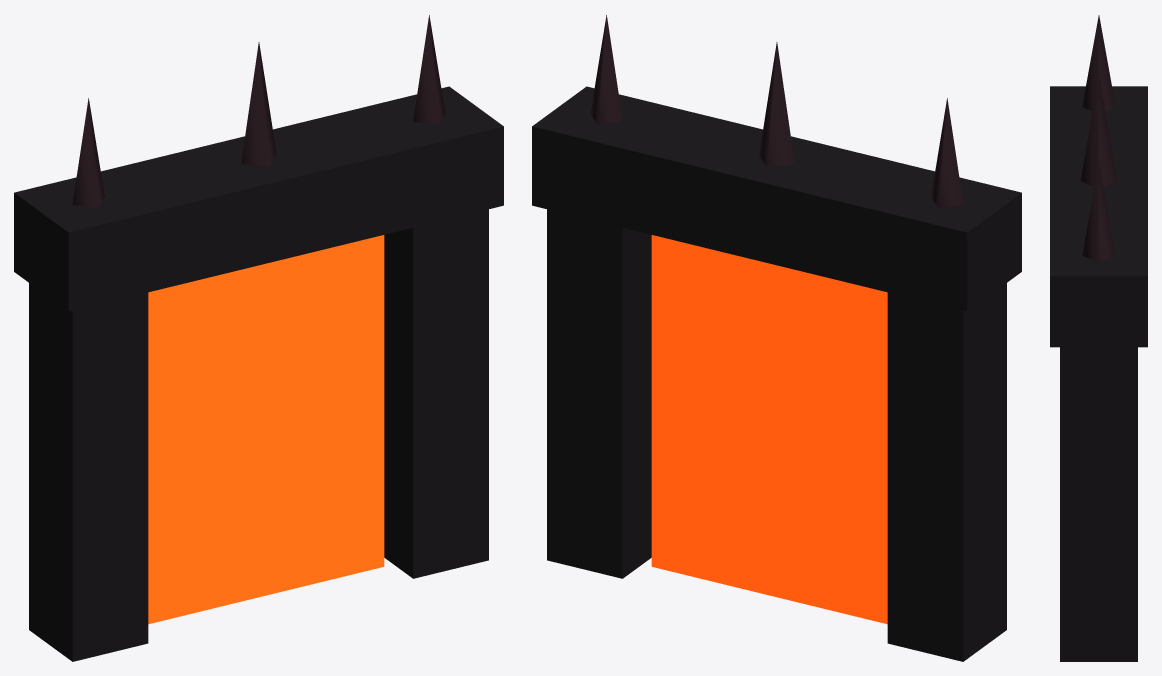
The model's file is infernal_gate.glb.
3 views of the same model, side by side, from view 1: azimuth 30°, elevation 25°; view 2: azimuth 150°, elevation 25°; view 3: azimuth 270°, elevation 25° (orthographic). The views are drawn at different scales.
Size of the model in its own units: 4.6 by 5.6 by 1.
